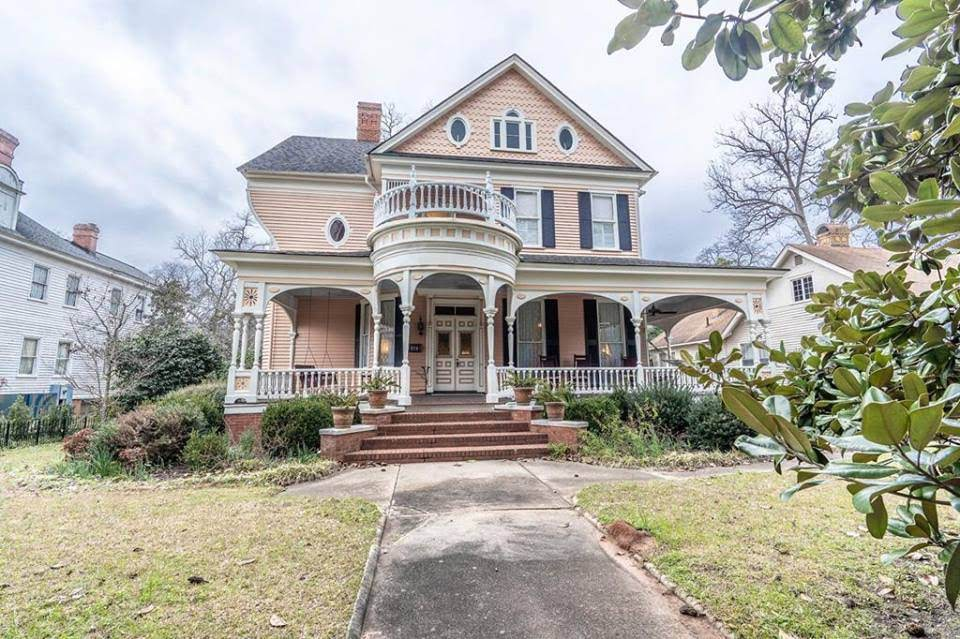Building House: (231, 77, 776, 417), (9, 137, 165, 424)
